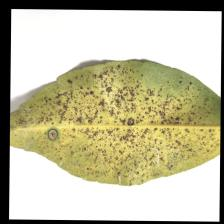canker: (42, 94, 204, 176)
